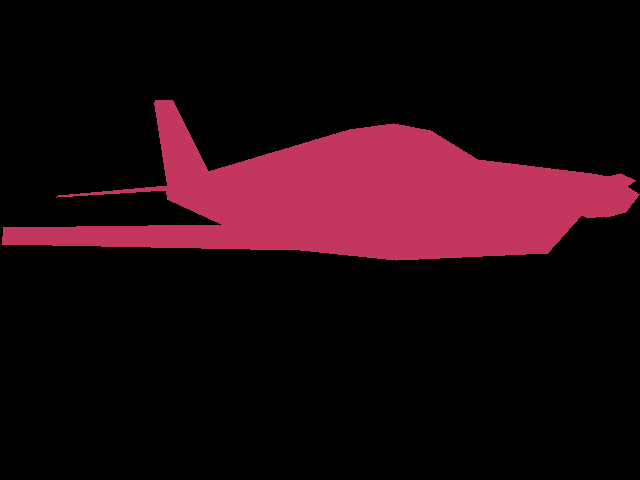Airplane: (2, 100, 640, 261)
